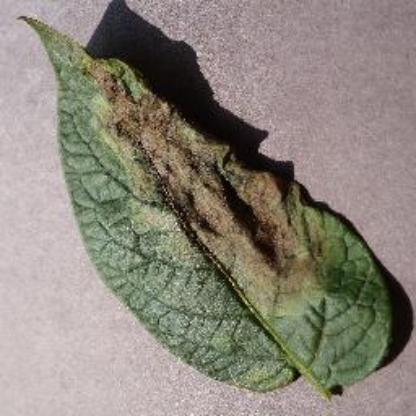Late-Blight: (3, 8, 395, 394)
